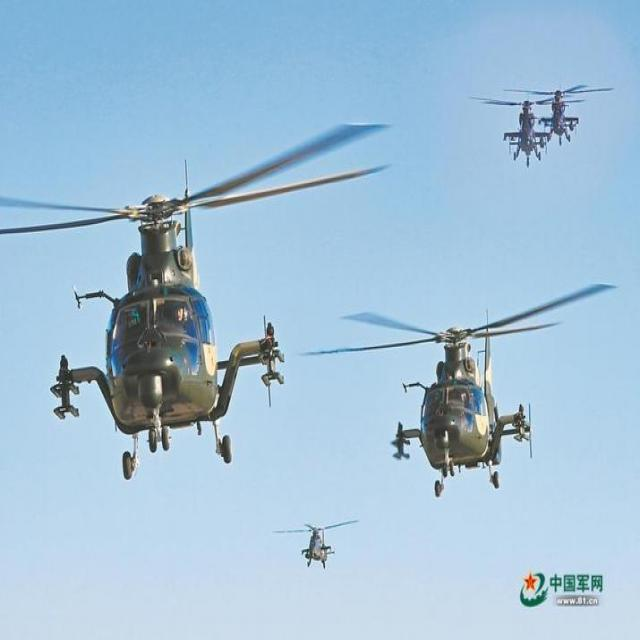MIL_HELO: (12, 122, 401, 506), (294, 279, 635, 495), (472, 86, 561, 172), (528, 78, 601, 154), (270, 512, 367, 569)
